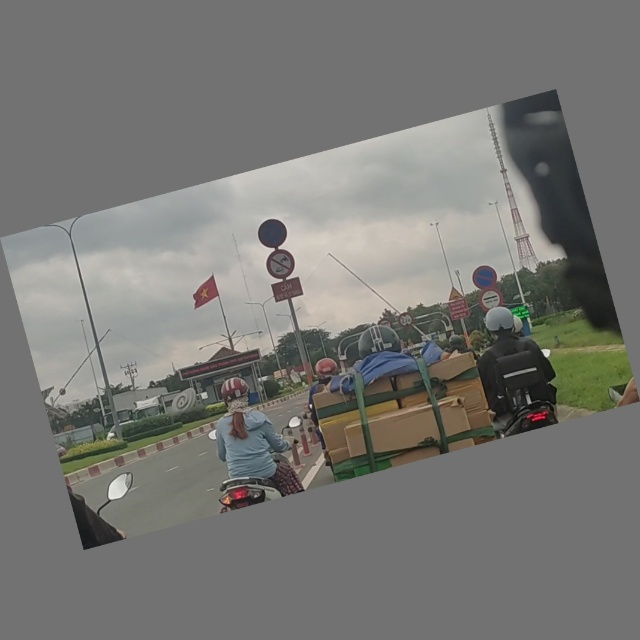P.111: (263, 247, 298, 282)
P.117*: (398, 312, 414, 329)
P.129: (477, 287, 505, 312)
P.130: (254, 216, 291, 252)
P.131a: (470, 263, 499, 292)
W.221b: (446, 285, 463, 302)
